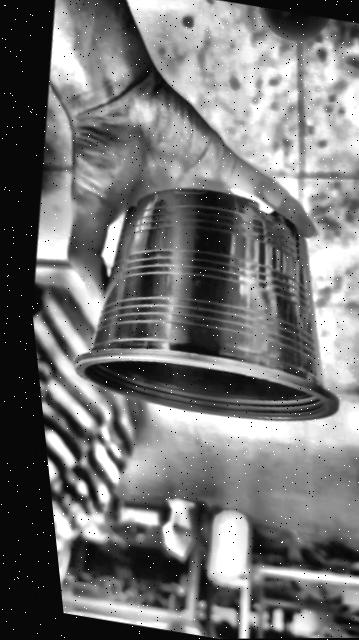pot: (73, 190, 336, 420)
